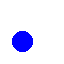circle: (12, 31, 32, 51)
